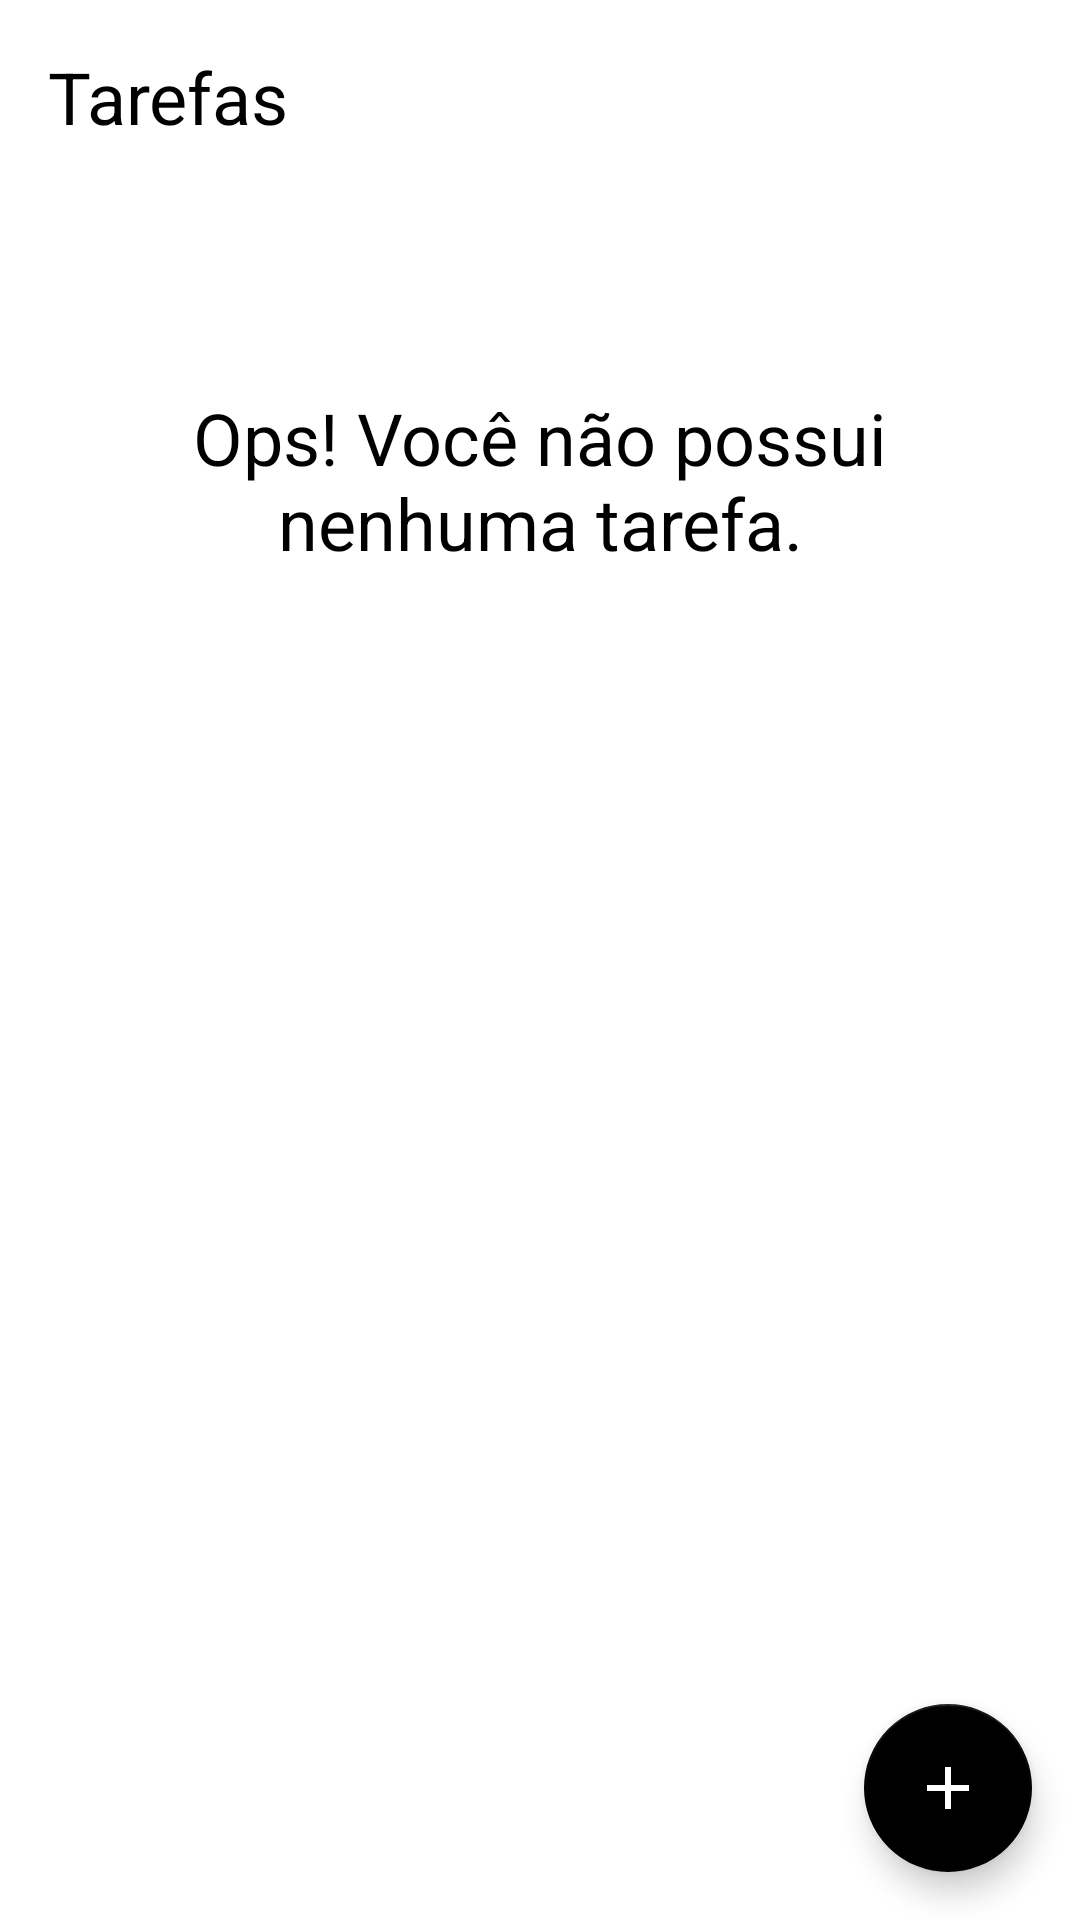

Where icons sit on this 1080 × 1920 app screen, as (x1, y1, x2, y2):
Nova tarefa: (864, 1704, 1032, 1872)
